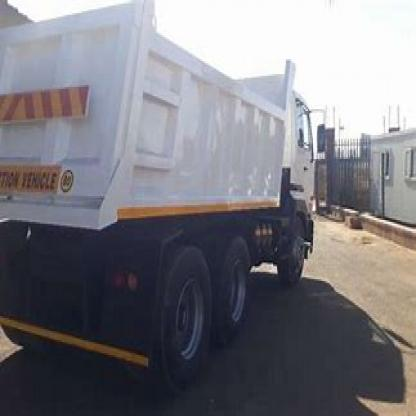dump_truck: (5, 0, 329, 381)
